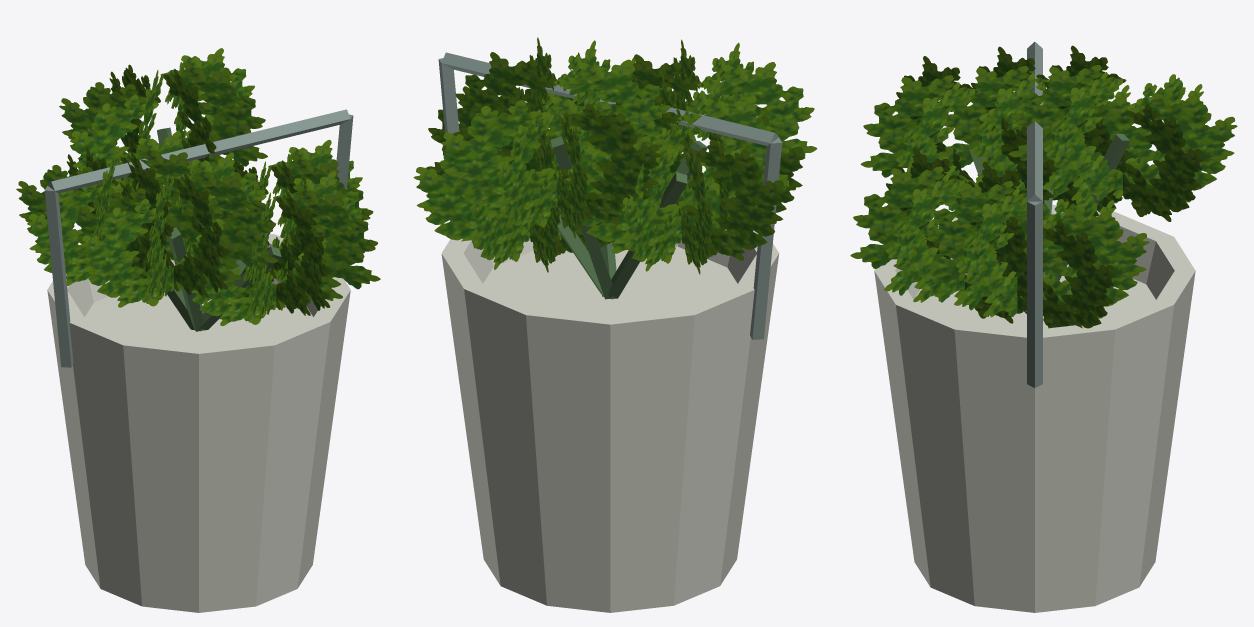
3 views of the same model, side by side, from view 1: azimuth 30°, elevation 25°; view 2: azimuth 150°, elevation 25°; view 3: azimuth 270°, elevation 25° (orthographic). The views are drawn at different scales.
Parts seen in each view (by area): view 1: a05; view 2: a05; view 3: a05.
Part boxes in pixels (x1,y1,x2,y2): a05: [16, 48, 380, 612]; a05: [413, 37, 817, 612]; a05: [850, 42, 1237, 612].
Bounding box in the file's own units: 0.4072 × 0.5514 × 0.3899.
Materials: 2 (1 with a texture image).
